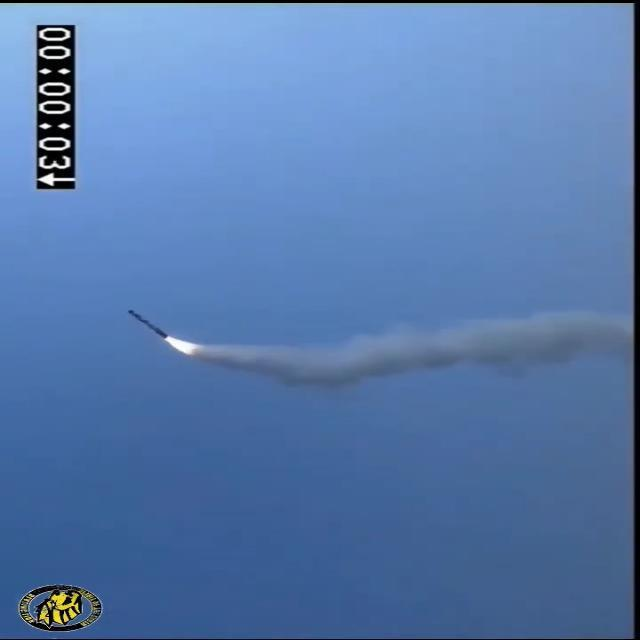Missile: (119, 305, 174, 341)
